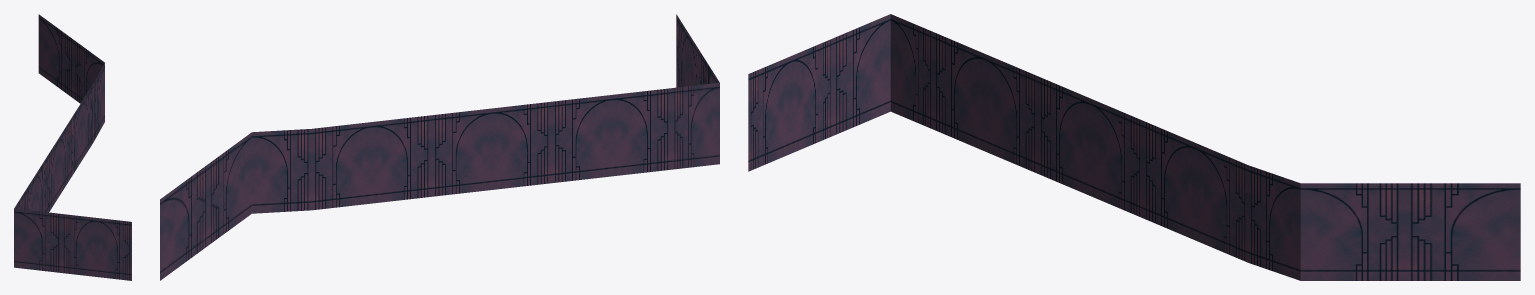
File: glass3.gltf
The picture shows the model from 3 angles, left to right: view 1: azimuth 30°, elevation 25°; view 2: azimuth 150°, elevation 25°; view 3: azimuth 270°, elevation 25°; orthographic projection. The views are drawn at different scales.
Parts seen in each view (by area): view 1: ModelObject; view 2: ModelObject; view 3: ModelObject.
Boxes of the visible parts, bbox=[...] form: ModelObject: bbox=[14, 14, 131, 280]; ModelObject: bbox=[160, 14, 719, 280]; ModelObject: bbox=[748, 14, 1520, 280].
Size of the model in its own units: 2.28 by 0.6248 by 4.3.
Materials: 1 (1 with a texture image).
